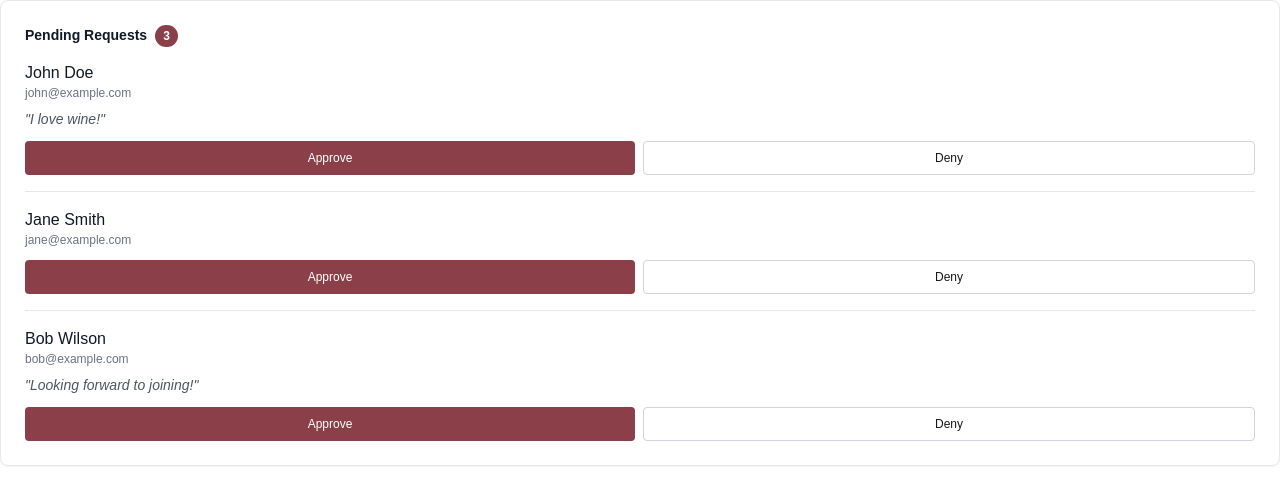
Test: PendingRequestsCard - Approve/Deny Button States › Deny Button States › should show "Processing..." on Deny button during action
The image size is (1280, 483).
What coordinates should you click on to do the following:
click the 1st button "Deny"
I would click on:
 (949, 158)
Its box is [643, 141, 1255, 175].
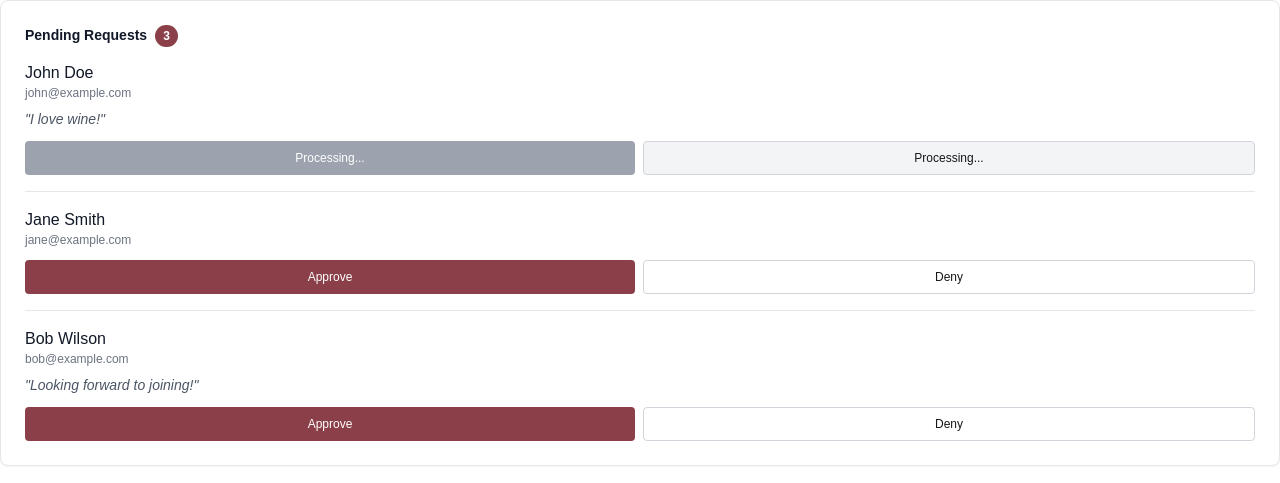
Now the 1st button "Processing..." is disabled, box [25, 141, 635, 175]
Now the 2nd button "Processing..." is disabled, box [643, 141, 1255, 175]
